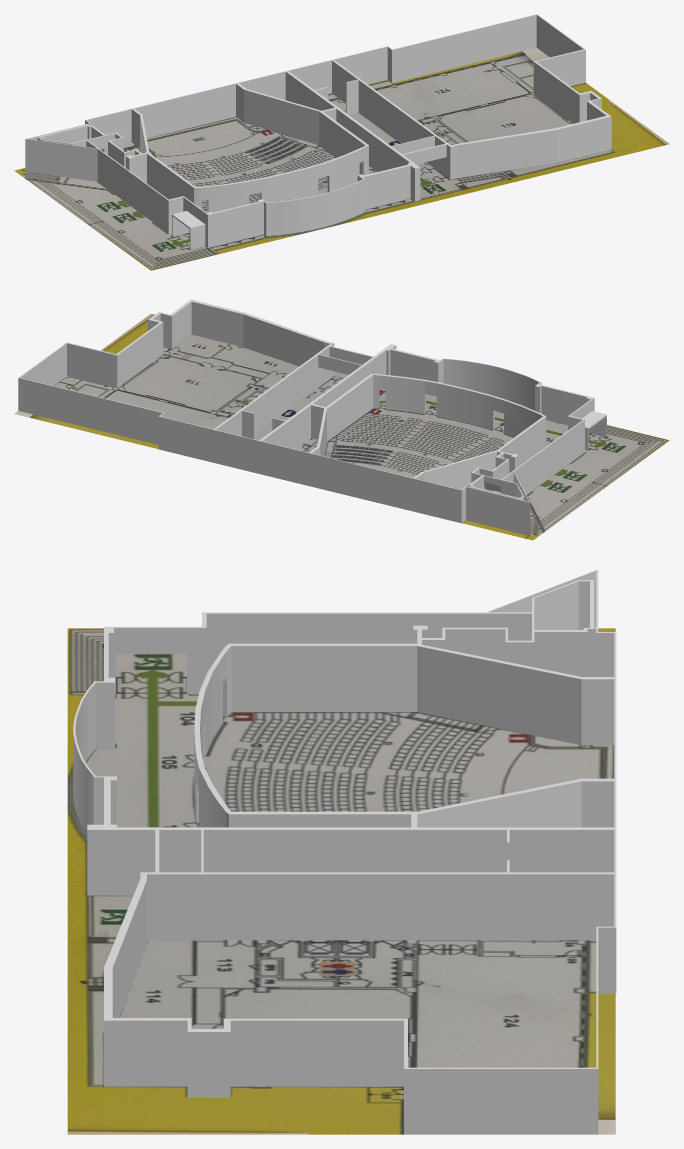
The model's file is map-E(line)-test.fbx.
3 views of the same model, one above another, from view 1: azimuth 30°, elevation 25°; view 2: azimuth 150°, elevation 25°; view 3: azimuth 270°, elevation 25° (orthographic). The views are drawn at different scales.
Parts seen in each view (by area): view 1: Line001, x-ray; view 2: Line001, x-ray; view 3: Line001, x-ray.
Part boxes in pixels (x1=…): Line001: x1=25, y1=14, x2=611, y2=249; x-ray: x1=14, y1=48, x2=669, y2=270; Line001: x1=18, y1=299, x2=606, y2=535; x-ray: x1=14, y1=313, x2=669, y2=540; Line001: x1=73, y1=569, x2=616, y2=1134; x-ray: x1=67, y1=628, x2=615, y2=1134.
Bounding box in the file's own units: 70000 × 4263 × 32047.
